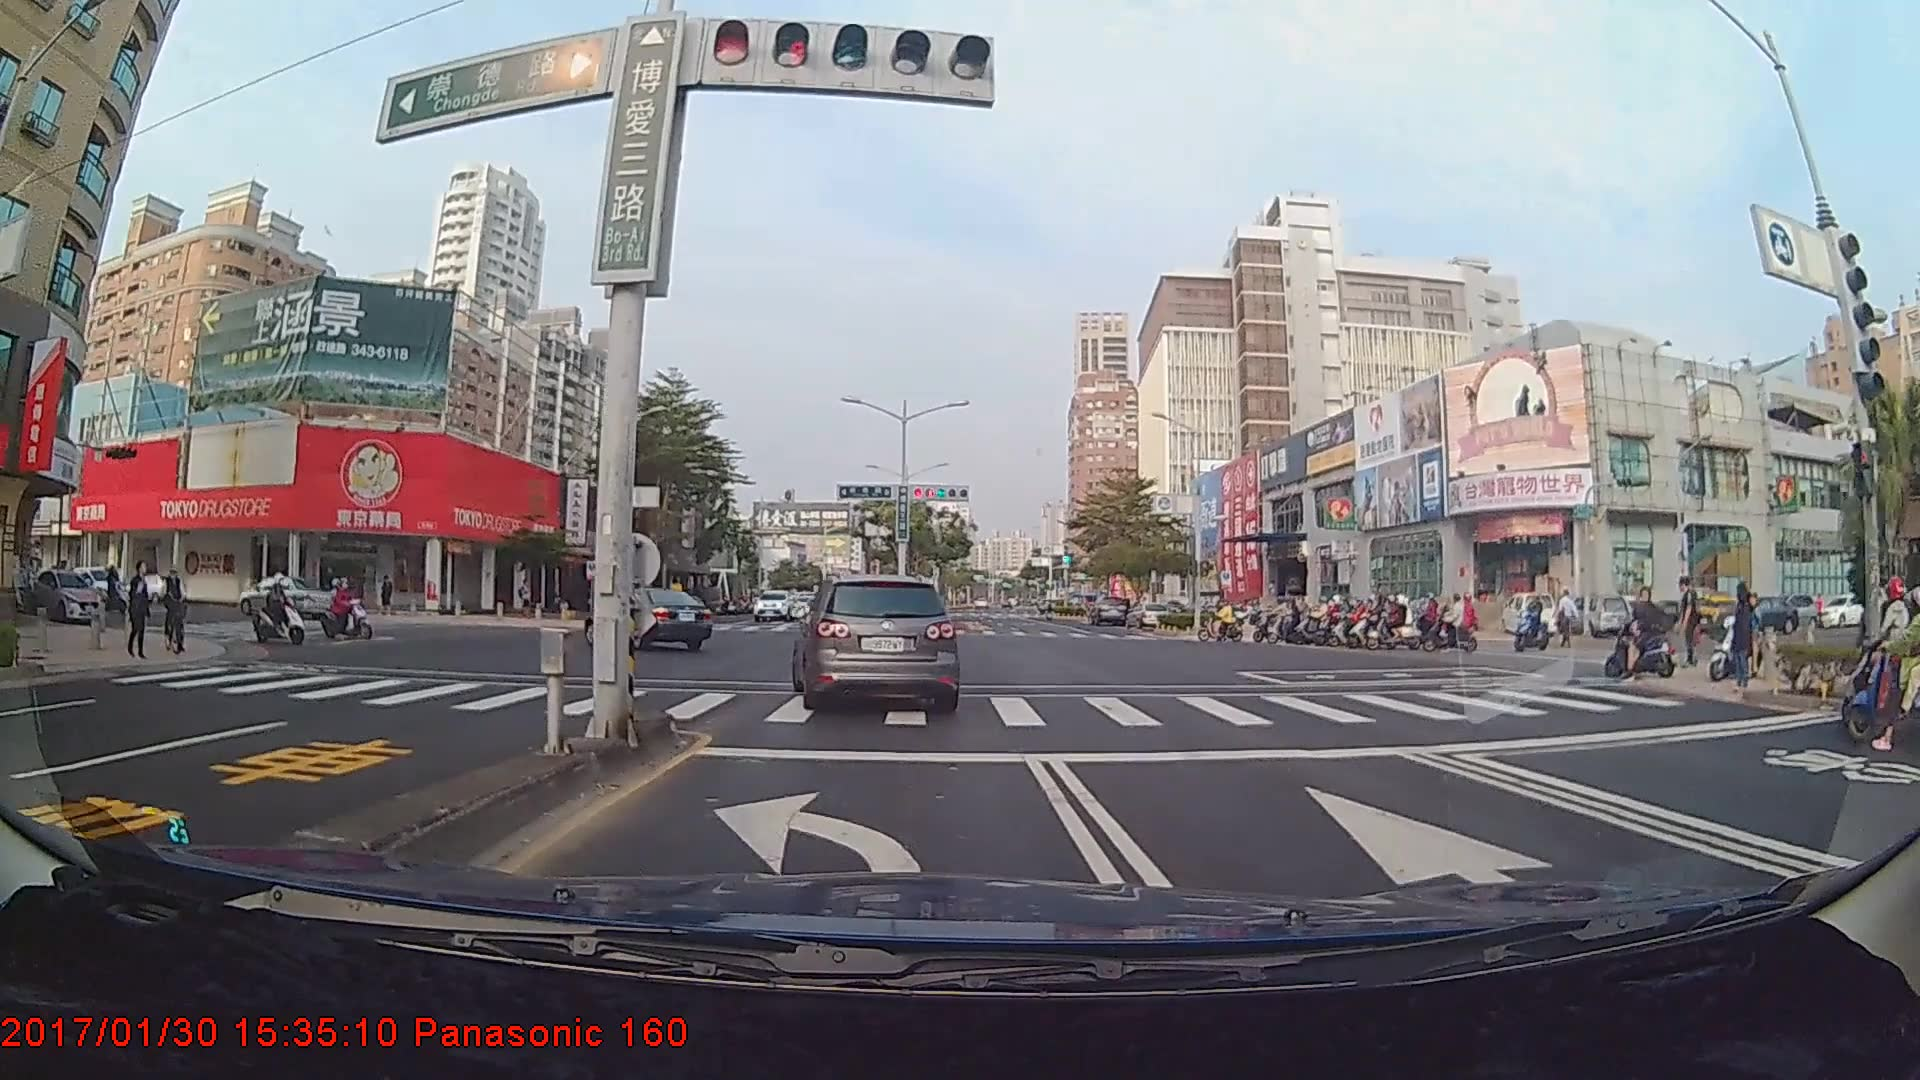pedestrian: (1724, 574, 1763, 698), (126, 565, 151, 665), (1679, 577, 1704, 671)
rider: (1860, 594, 1920, 761), (1702, 583, 1768, 688), (1611, 591, 1683, 681), (246, 571, 316, 652), (318, 578, 381, 642), (156, 565, 197, 659), (1425, 593, 1479, 658), (1508, 596, 1560, 652), (1249, 594, 1301, 643), (1381, 595, 1427, 651), (1349, 595, 1395, 644), (1198, 602, 1252, 644), (1325, 599, 1369, 647), (1339, 600, 1379, 645)
vehicle: (789, 572, 962, 717), (583, 588, 709, 653), (233, 577, 325, 618), (1089, 594, 1129, 627)
